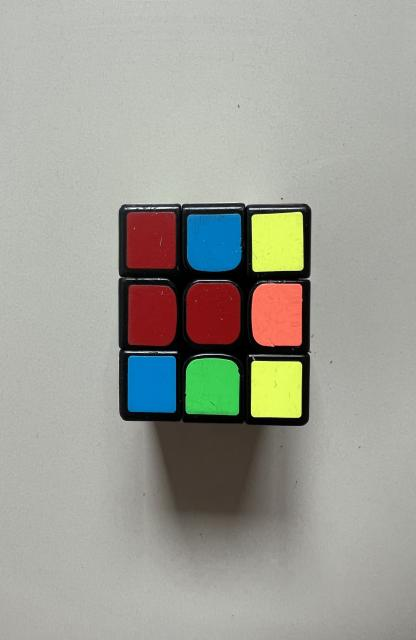Blue: (187, 214, 242, 271), (128, 355, 177, 412)
Green: (185, 358, 239, 416)
Orange: (251, 284, 302, 346)
Red: (186, 282, 240, 345), (128, 285, 177, 346), (127, 211, 177, 269)
Yellow: (251, 211, 303, 272), (251, 361, 302, 418)
